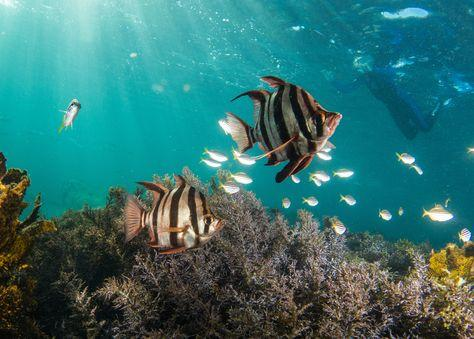fish: (219, 74, 343, 183), (122, 173, 225, 255), (57, 98, 81, 133), (422, 204, 454, 224), (232, 147, 256, 166), (203, 147, 228, 162), (330, 216, 347, 236), (228, 171, 253, 184), (397, 149, 415, 167), (456, 227, 474, 243), (197, 157, 222, 168), (341, 192, 357, 206), (407, 162, 423, 175), (332, 167, 355, 176), (303, 194, 318, 207), (378, 208, 391, 221), (316, 150, 331, 161), (281, 197, 291, 208), (291, 173, 300, 183), (465, 147, 474, 156), (396, 207, 404, 217)
